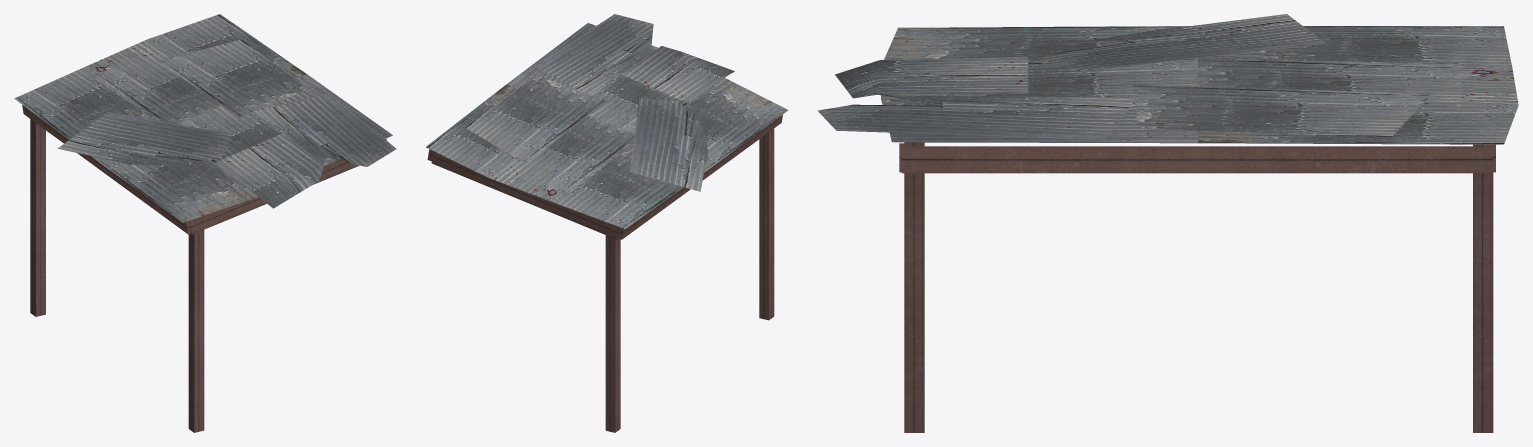
File: Prop_Pz01_lod1.glb
3 renders of one model, left to right at view 1: azimuth 30°, elevation 25°; view 2: azimuth 150°, elevation 25°; view 3: azimuth 270°, elevation 25°, orthographic. The views are drawn at different scales.
Parts seen in each view (by area): view 1: xiutz_pz_01_lod1; view 2: xiutz_pz_01_lod1; view 3: xiutz_pz_01_lod1.
Part boxes in pixels (<box>): xiutz_pz_01_lod1: <box>14,14,396,432</box>; xiutz_pz_01_lod1: <box>425,14,788,432</box>; xiutz_pz_01_lod1: <box>817,14,1518,432</box>.
Bounding box in the file's own units: 5.32 × 5.69 × 7.96.
Materials: 1 (1 with a texture image).
